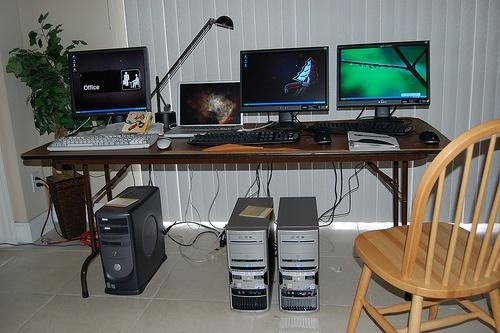chair: (350, 120, 500, 333)
pottedplant: (10, 10, 89, 239)
tvmonitor: (239, 44, 330, 132), (337, 40, 432, 123), (67, 45, 153, 125)
